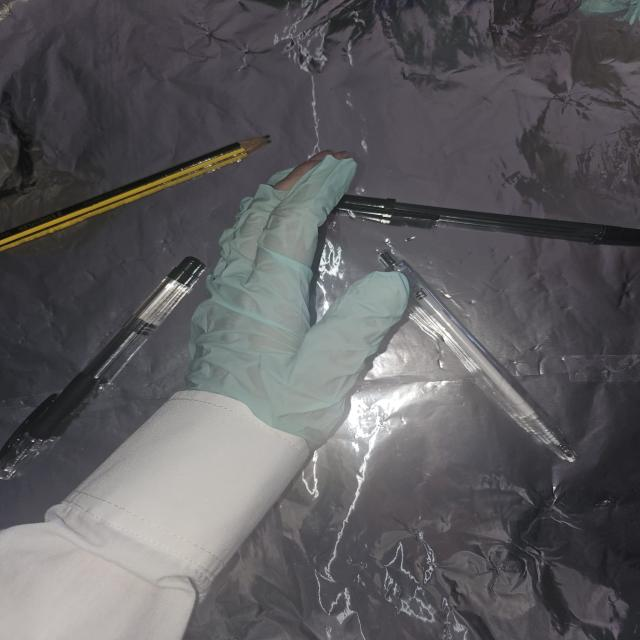gloves_damaged: (176, 146, 414, 452)
